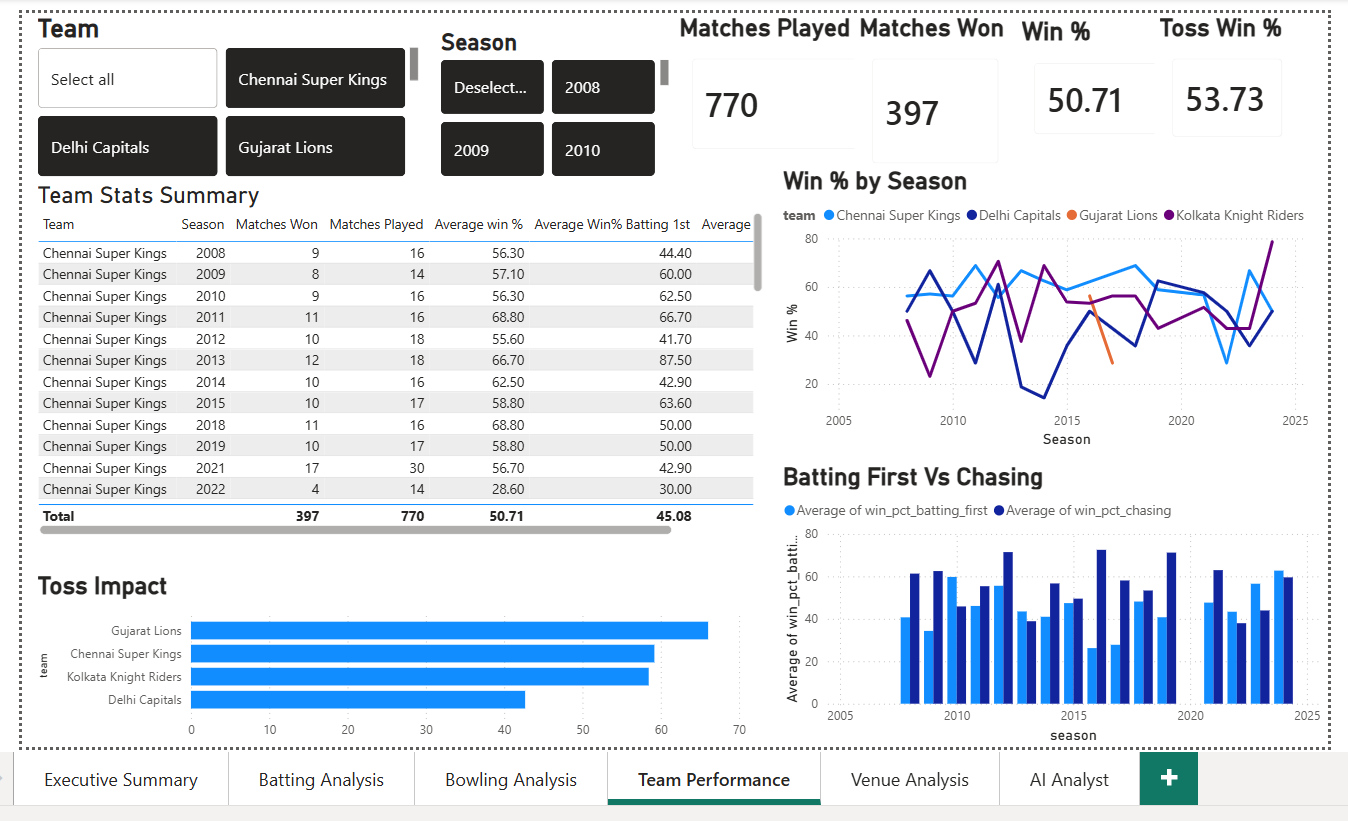

The dashboard page shown, as its layout file describes it:
{"tool":"powerbi","page":{"name":"Team Performance","canvas":[1280,720],"ordinal":3},"visuals":[{"type":"advancedSlicerVisual","title":"Team","fields":{"Values":["mart_team_performance.team"]},"box":[9.7,0,383.8,165.2],"z":0},{"type":"advancedSlicerVisual","title":"Season","fields":{"Values":["mart_team_performance.season"]},"box":[406.4,14.6,233.2,150.6],"z":1},{"type":"cardVisual","title":"Matches Played","fields":{"Data":["Sum(mart_team_performance.matches_played)"]},"box":[639.6,0,204,150.6],"z":2},{"type":"cardVisual","title":"Matches Won","fields":{"Data":["Sum(mart_team_performance.matches_won)"]},"box":[816.1,0,158.7,165.2],"z":3},{"type":"cardVisual","title":"Win %","fields":{"Data":["Avg(mart_team_performance.win_pct)"]},"box":[974.8,3.2,161.9,132.8],"z":4},{"type":"cardVisual","title":"Toss Win %","fields":{"Data":["Avg(mart_team_performance.toss_win_conversion_pct)"]},"box":[1110.8,0,142.5,139.3],"z":5},{"type":"lineChart","title":"Win % by Season","fields":{"Category":["mart_team_performance.season"],"Y":["Sum(mart_team_performance.win_pct)"],"Series":["mart_team_performance.team"]},"box":[741.6,150.6,524.6,280.1],"z":6},{"type":"clusteredColumnChart","title":"Batting First Vs Chasing","fields":{"Category":["mart_team_performance.season"],"Y":["Avg(mart_team_performance.win_pct_batting_first)","Avg(mart_team_performance.win_pct_chasing)"]},"box":[741.6,440.4,537.6,280.1],"z":7},{"type":"clusteredBarChart","title":"Toss Impact","fields":{"Category":["mart_team_performance.team"],"Y":["Avg(mart_team_performance.toss_win_conversion_pct)"]},"box":[9.7,547.3,704.4,173.3],"z":8},{"type":"tableEx","title":"Team Stats Summary","fields":{"Values":["mart_team_performance.team","mart_team_performance.season","Sum(mart_team_performance.matches_won)","Sum(mart_team_performance.matches_played)","Avg(mart_team_performance.win_pct)","Avg(mart_team_performance.win_pct_batting_first)","Avg(mart_team_performance.win_pct_chasing)"]},"box":[9.7,165.2,720.6,351.4],"z":9}]}

Visuals, with their boxes on the page's 1280x720 design canvas (x1, y1, x2, y2). These are canvas units, not pixel positions in the 1348x821 screenshot, which may show the page scaled, cropped or inside an application window:
"Team" advancedSlicerVisual: left=10, top=0, right=394, bottom=165
"Season" advancedSlicerVisual: left=406, top=15, right=640, bottom=165
"Matches Played" cardVisual: left=640, top=0, right=844, bottom=151
"Matches Won" cardVisual: left=816, top=0, right=975, bottom=165
"Win %" cardVisual: left=975, top=3, right=1137, bottom=136
"Toss Win %" cardVisual: left=1111, top=0, right=1253, bottom=139
"Win % by Season" lineChart: left=742, top=151, right=1266, bottom=431
"Batting First Vs Chasing" clusteredColumnChart: left=742, top=440, right=1279, bottom=720
"Toss Impact" clusteredBarChart: left=10, top=547, right=714, bottom=721
"Team Stats Summary" tableEx: left=10, top=165, right=730, bottom=517
